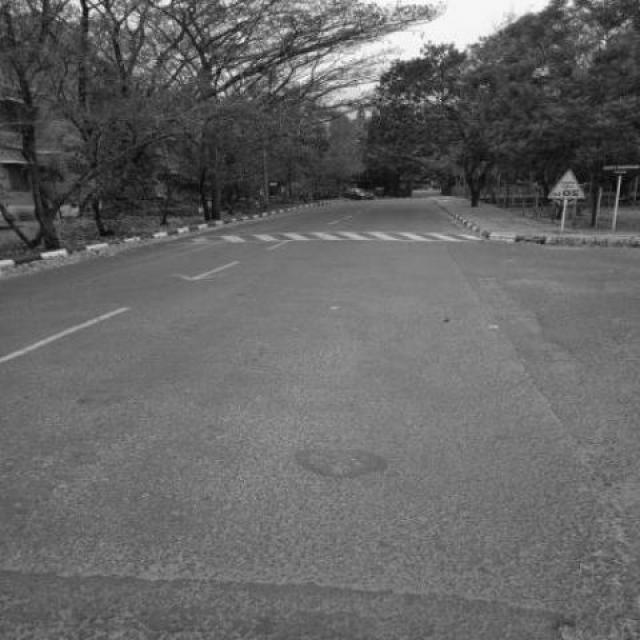Speed Bump: (179, 228, 482, 244)
